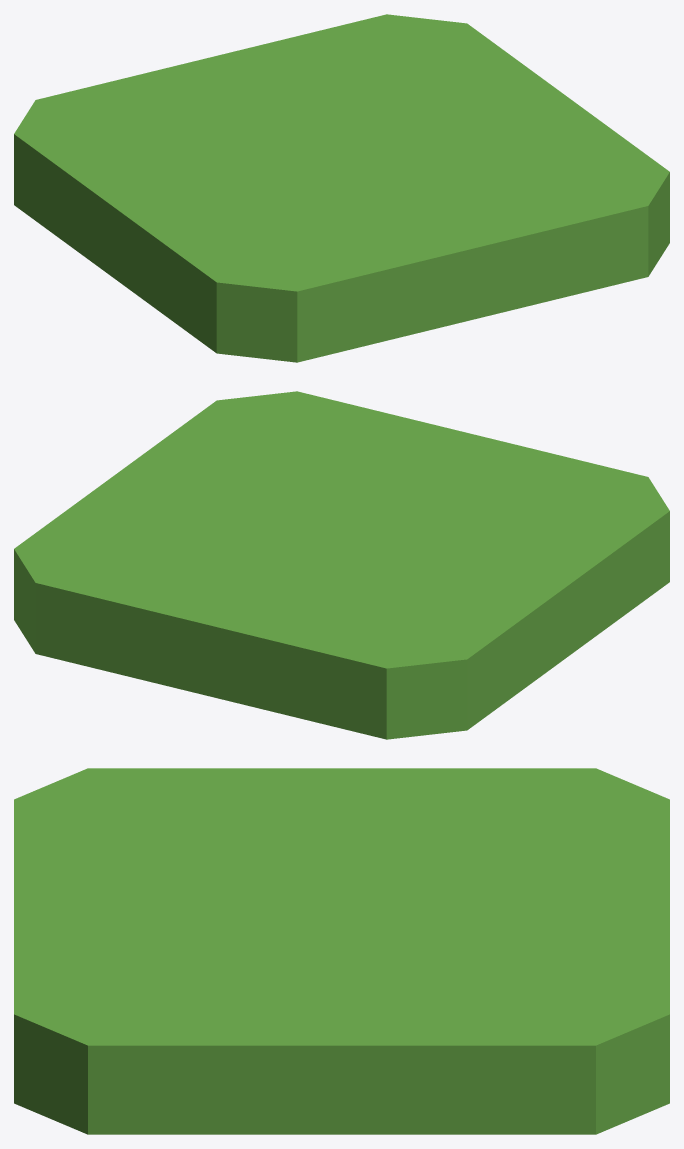
Rendered from met decor 02.FBX.
3 renders of one model, top to bottom at view 1: azimuth 30°, elevation 25°; view 2: azimuth 150°, elevation 25°; view 3: azimuth 270°, elevation 25°, orthographic. The views are drawn at different scales.
Visible parts, largest first — view 1: Box151; view 2: Box151; view 3: Box151.
Boxes of the visible parts, x1=… form: Box151: x1=14, y1=14, x2=669, y2=362; Box151: x1=14, y1=391, x2=669, y2=739; Box151: x1=14, y1=768, x2=669, y2=1134.
Bounding box in the file's own units: 0.3553 × 0.0533 × 0.3553.
